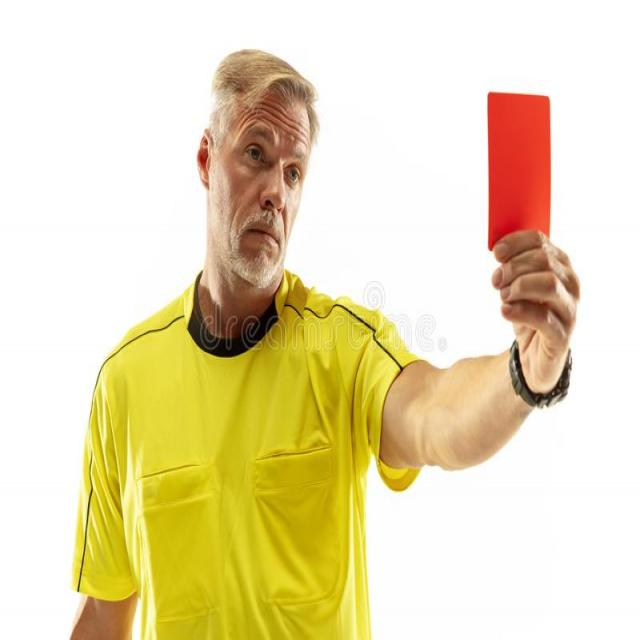red-card: (471, 82, 586, 420)
